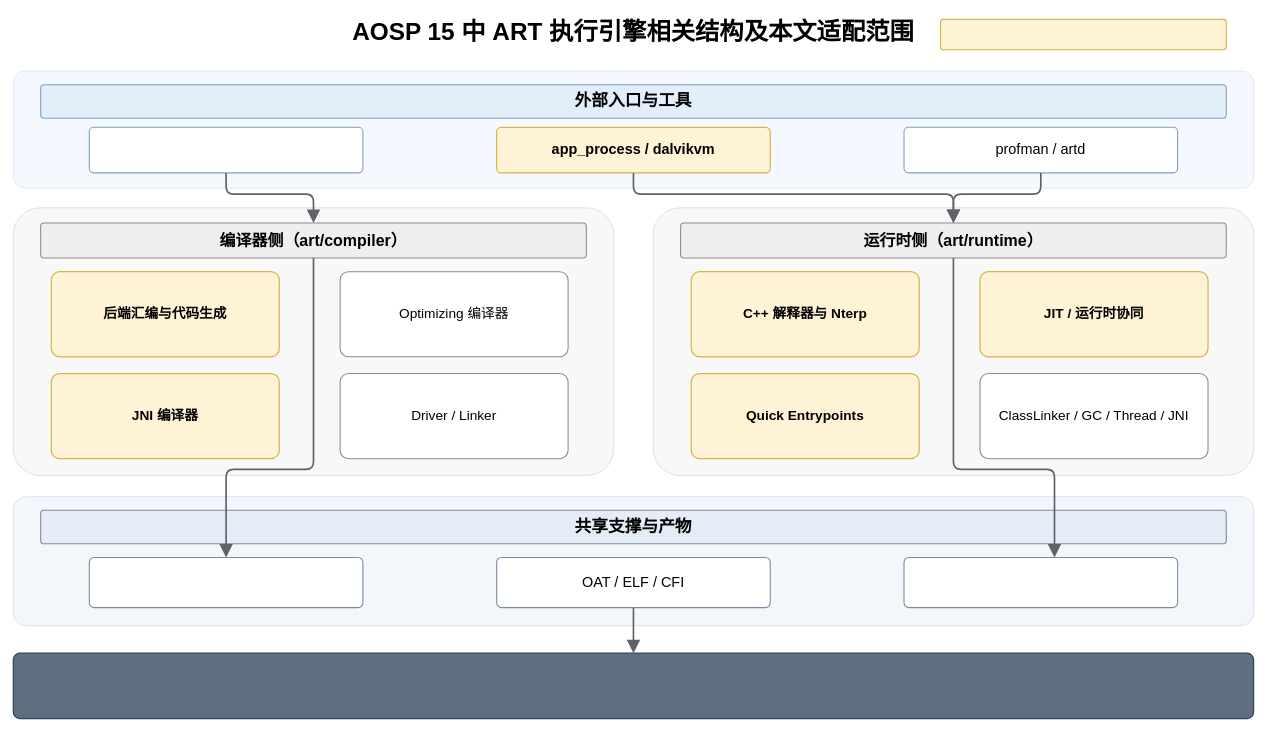
The diagram is 1268 pixels wide and 732 high, and some of its shapes have lost their labels. Here are the shapes that lost their labels. From the top down, the centre of each, then its label:
(x=1083, y=34): 浅黄模块：本文直接适配或补齐
(x=225, y=149): dex2oat
(x=225, y=582): libdexfile / libartbase
(x=1040, y=582): Profile / Native Bridge
(x=633, y=685): LoongArch64 平台基础（ISA / ABI / Linux-Android 环境）
